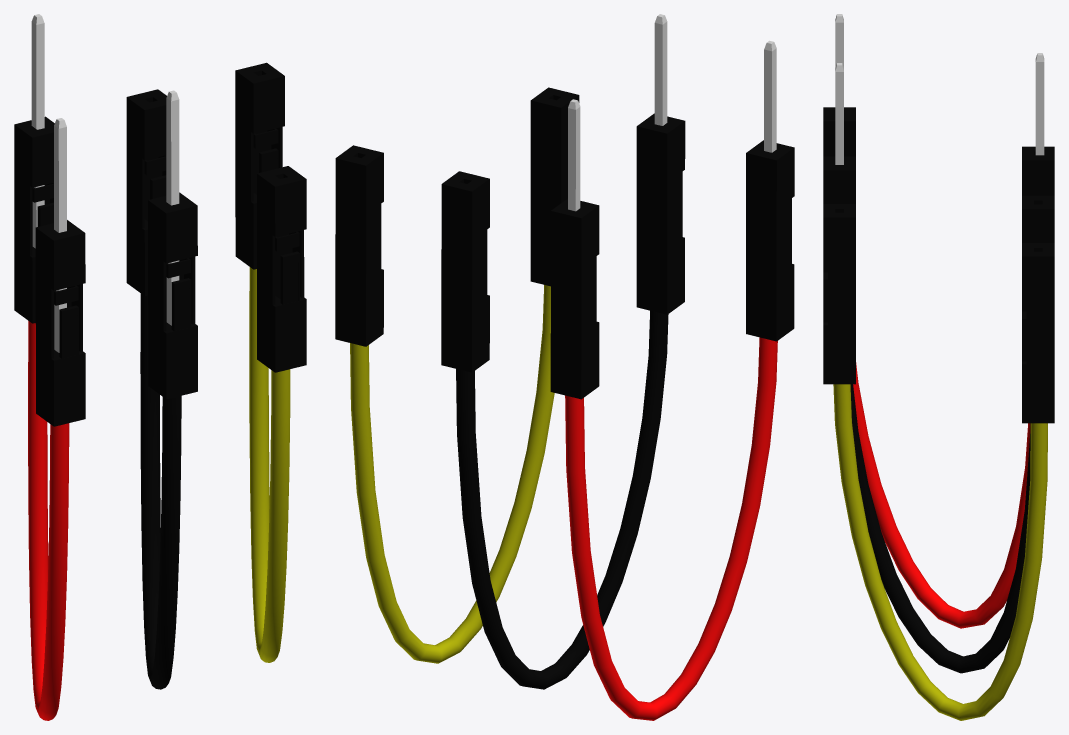
The model's file is 17. JUMPER WIRES.gltf.
3 renders of one model, left to right at view 1: azimuth 30°, elevation 25°; view 2: azimuth 150°, elevation 25°; view 3: azimuth 270°, elevation 25°, orthographic. The views are drawn at different scales.
Visible parts, largest first — view 1: Jumper_M_F.003; view 2: Jumper_M_F.003; view 3: Jumper_M_F.003.
Boxes of the visible parts, <box> form: Jumper_M_F.003: <box>14,14,306,720</box>; Jumper_M_F.003: <box>335,14,794,720</box>; Jumper_M_F.003: <box>823,14,1054,720</box>.
Size of the model in its own units: 0.0272 by 0.05 by 0.0178.
